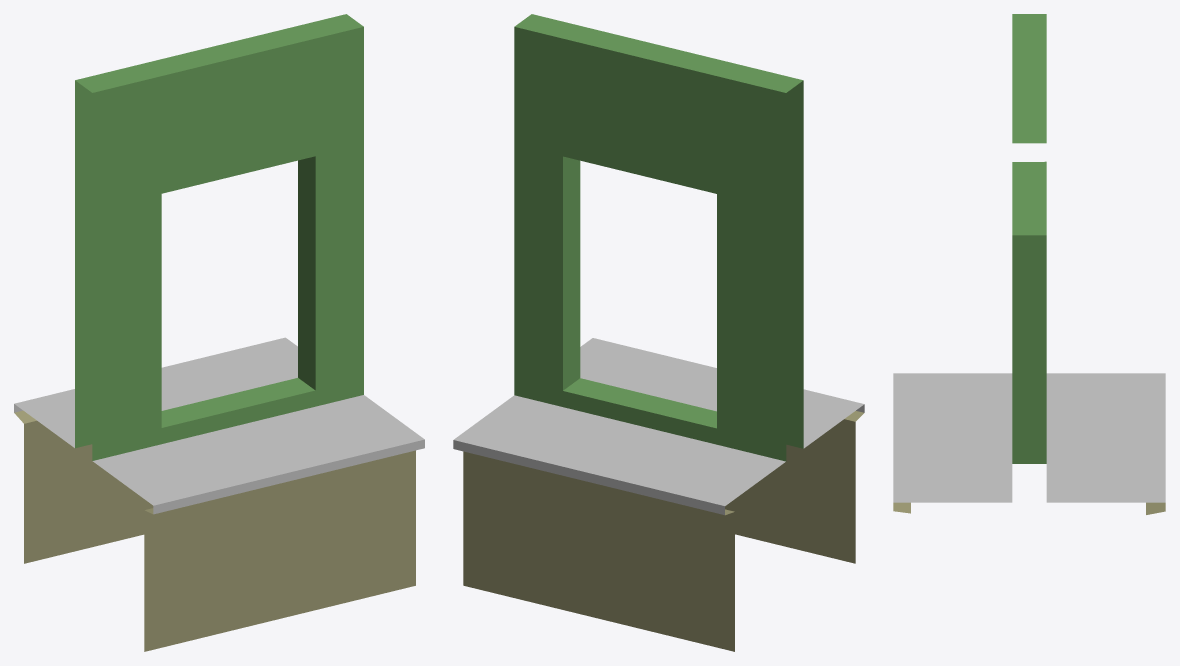
Rendered from SM_Window_Negotiation_180.FBX.
The picture shows the model from 3 angles, left to right: view 1: azimuth 30°, elevation 25°; view 2: azimuth 150°, elevation 25°; view 3: azimuth 270°, elevation 25°; orthographic projection. The views are drawn at different scales.
Visible parts, largest first — view 1: SM_Window_Negotiation_180; view 2: SM_Window_Negotiation_180; view 3: SM_Window_Negotiation_180.
Part boxes in pixels (<box>): SM_Window_Negotiation_180: <box>14,14,424,651</box>; SM_Window_Negotiation_180: <box>453,14,864,651</box>; SM_Window_Negotiation_180: <box>893,14,1165,514</box>.
Bounding box in the file's own units: 180 × 330 × 160.
1 material, 1 textured.
